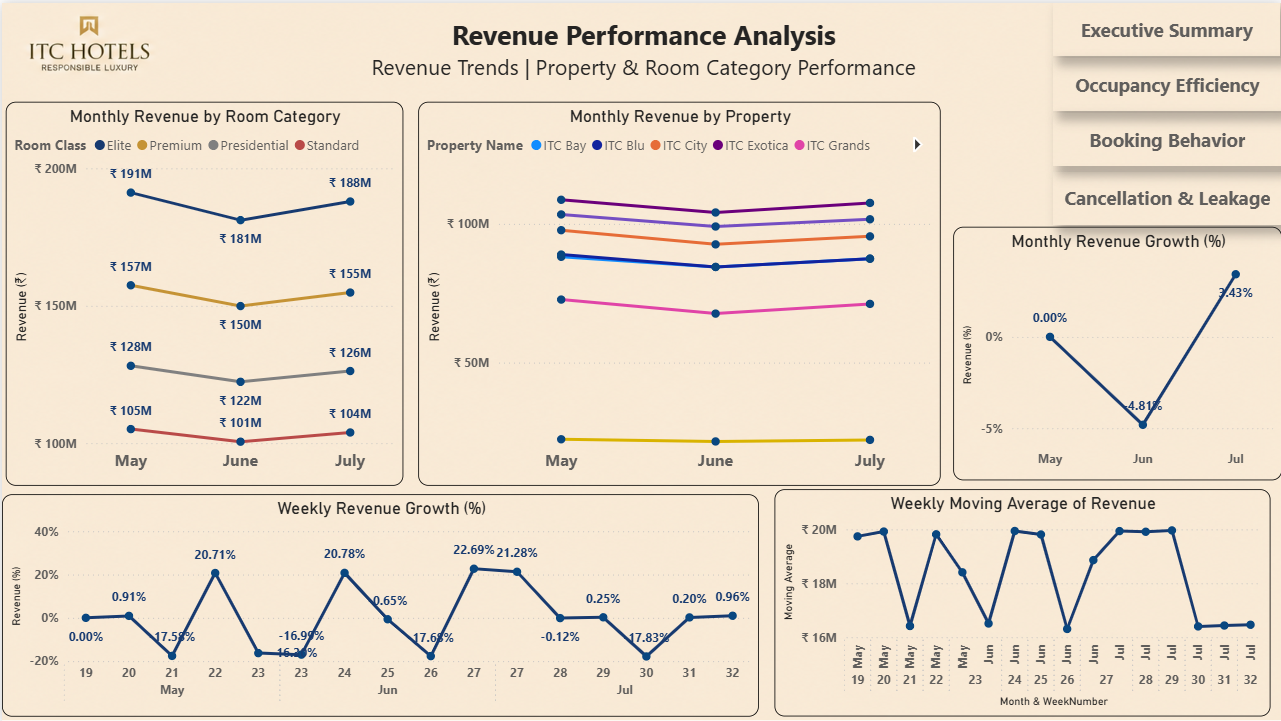

The page's visual inventory and layout, read from the dashboard file:
{"tool":"powerbi","page":{"name":"Revenue Performance","canvas":[1280,720],"ordinal":1},"visuals":[{"type":"textbox","box":[344.8,8.6,593.4,75.9],"z":0},{"type":"lineChart","title":"Monthly Revenue Growth (%)","fields":{"Category":["Date Table.MonthName"],"Y":["A measures.MOM% Growth"]},"box":[950.9,223.3,328.8,254],"z":1000},{"type":"lineChart","title":"Monthly Revenue by Room Category","fields":{"Category":["Date Table.Date.Variation.Date Hierarchy.Month"],"Y":["A measures.Total Revenue"],"Series":["rooms.Room Class"]},"box":[4.2,99.1,397.5,384.1],"z":2000},{"type":"lineChart","title":"Weekly Revenue Growth (%)","fields":{"Category":["Date Table.MonthName","Date Table.WeekNumber"],"Y":["A measures.WOW% Growth"]},"box":[0,490.8,757.1,222.1],"z":3000},{"type":"lineChart","title":"Weekly Moving Average of Revenue","fields":{"Y":["A measures.Moving Average"],"Category":["Date Table.WeekNumber","Date Table.MonthName"]},"box":[773,485.9,495.7,227],"z":4000},{"type":"lineChart","title":"Monthly Revenue by Property","fields":{"Category":["Date Table.Date.Variation.Date Hierarchy.Month"],"Y":["A measures.Total Revenue"],"Series":["hotels.Property Name"]},"box":[416.4,99.1,522.7,384.1],"z":5000},{"type":"actionButton","box":[1051.5,55.2,228.2,52.8],"z":6000},{"type":"actionButton","box":[1051.5,110.4,228.2,52.8],"z":7000},{"type":"actionButton","box":[1051.5,0,227,52.8],"z":8000},{"type":"actionButton","box":[1051.5,169.3,228.2,52.8],"z":9000}]}

Visuals, with their boxes in screenshot pixels (x1, y1, x2, y2), scaled from the page's 1280x720 canvas onto the 1281x721 screenshot:
textbox: x1=345, y1=9, x2=939, y2=85
"Monthly Revenue Growth (%)" lineChart: x1=952, y1=224, x2=1280, y2=478
"Monthly Revenue by Room Category" lineChart: x1=4, y1=99, x2=402, y2=484
"Weekly Revenue Growth (%)" lineChart: x1=0, y1=491, x2=758, y2=714
"Weekly Moving Average of Revenue" lineChart: x1=774, y1=487, x2=1270, y2=714
"Monthly Revenue by Property" lineChart: x1=417, y1=99, x2=940, y2=484
actionButton: x1=1052, y1=55, x2=1280, y2=108
actionButton: x1=1052, y1=111, x2=1280, y2=163
actionButton: x1=1052, y1=0, x2=1279, y2=53
actionButton: x1=1052, y1=170, x2=1280, y2=222
